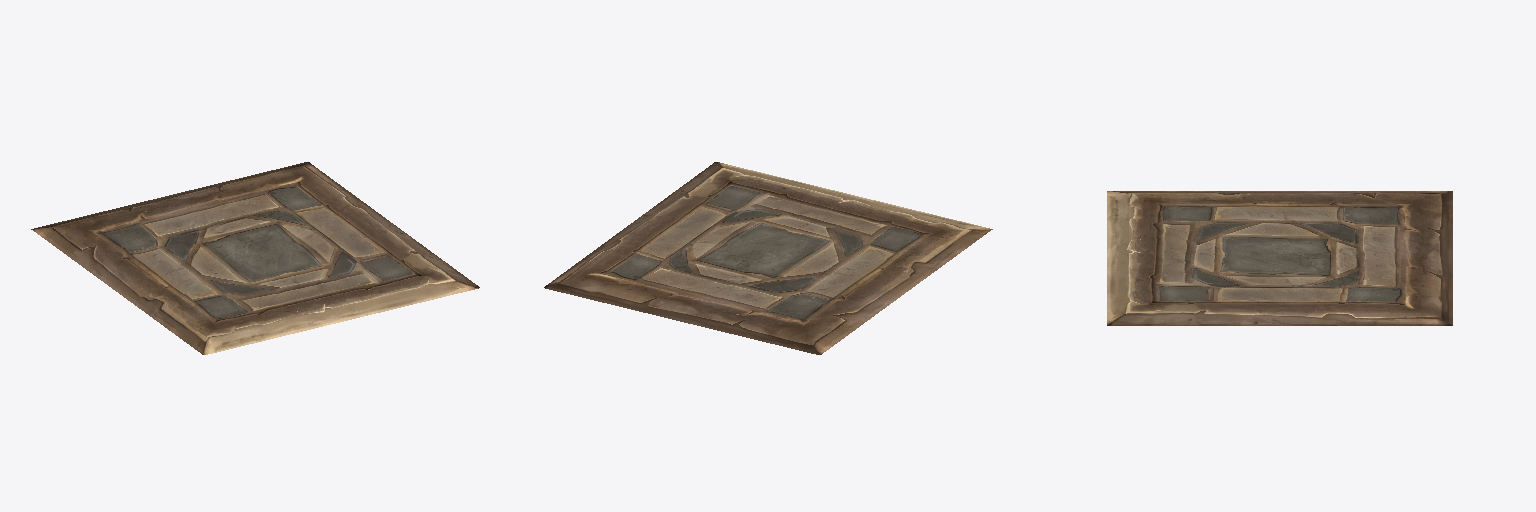
The picture shows the model from 3 angles: view 1: azimuth 30°, elevation 25°; view 2: azimuth 150°, elevation 25°; view 3: azimuth 270°, elevation 25°; orthographic projection.
Parts seen in each view (by area): view 1: dwarventiling01; view 2: dwarventiling01; view 3: dwarventiling01.
Part boxes in pixels (left/top/right/bottom): dwarventiling01: left=31, top=162, right=479, bottom=354; dwarventiling01: left=544, top=162, right=992, bottom=354; dwarventiling01: left=1107, top=191, right=1452, bottom=325.
Bounding box in the file's own units: 5.56 × 0.0991 × 6.
Materials: 1 (1 with a texture image).